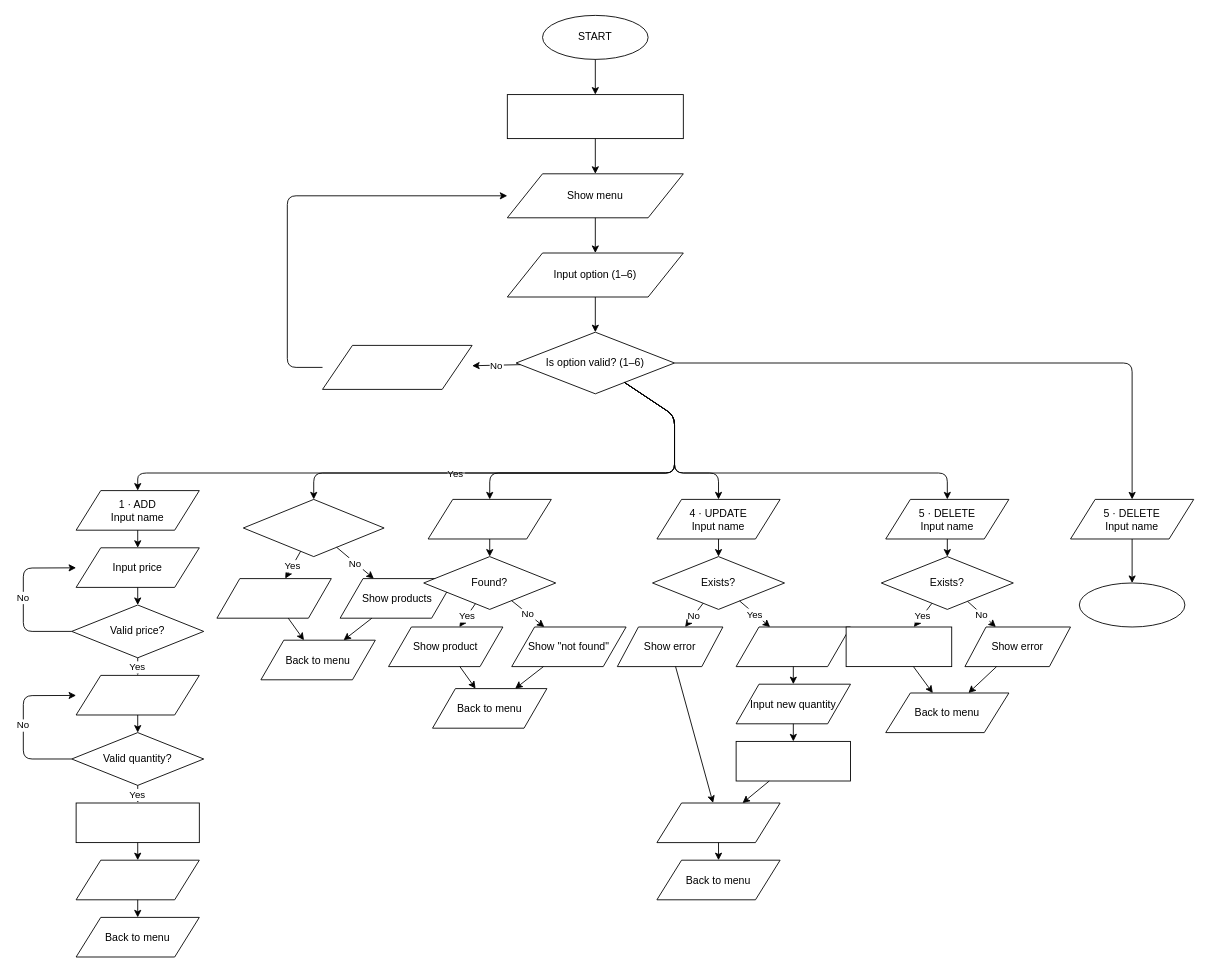
Some shapes in this 1209 by 972 pixel diagram are drawn without their labels. Here are the shapes that lost their labels. From the top down, the centre of each, then its label:
point 594,116: Initialize inventory = []
point 397,367: Show "Invalid option"
point 313,528: 2 · SHOW Inventory empty?
point 489,519: 3 · SEARCH Input name
point 273,598: Show "empty"
point 1131,604: END
point 793,646: Input new price
point 898,646: Delete product
point 137,695: Input quantity
point 793,761: Update product
point 137,822: Add product
point 718,822: Show result
point 137,879: Show success message
